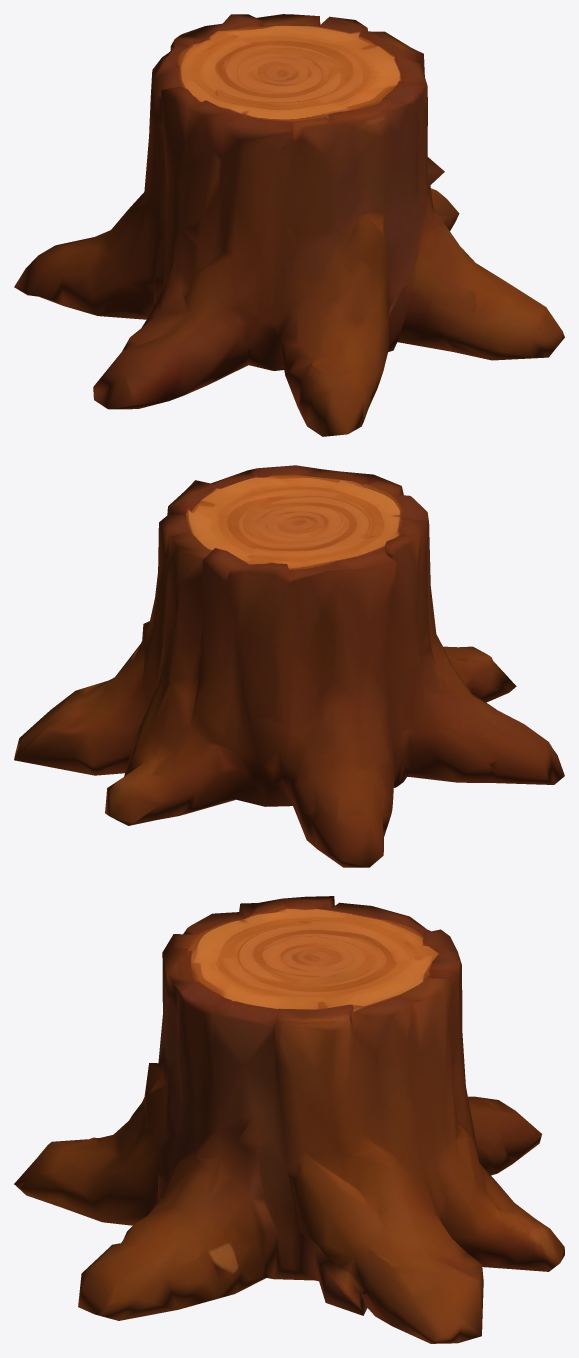
The model's file is camp_stump-CQ-hUZy-.glb.
The picture shows the model from 3 angles, top to bottom: view 1: azimuth 30°, elevation 25°; view 2: azimuth 150°, elevation 25°; view 3: azimuth 270°, elevation 25°; orthographic projection. The views are drawn at different scales.
Parts seen in each view (by area): view 1: tripo_node_1c2c48c6-5cf0-48c1-b510-746d97a2fcda; view 2: tripo_node_1c2c48c6-5cf0-48c1-b510-746d97a2fcda; view 3: tripo_node_1c2c48c6-5cf0-48c1-b510-746d97a2fcda.
Boxes of the visible parts, x1=… form: tripo_node_1c2c48c6-5cf0-48c1-b510-746d97a2fcda: x1=14, y1=14, x2=564, y2=436; tripo_node_1c2c48c6-5cf0-48c1-b510-746d97a2fcda: x1=14, y1=465, x2=564, y2=867; tripo_node_1c2c48c6-5cf0-48c1-b510-746d97a2fcda: x1=14, y1=896, x2=564, y2=1343.
Size of the model in its own units: 1 by 0.5212 by 0.9556.
1 material, 1 textured.
